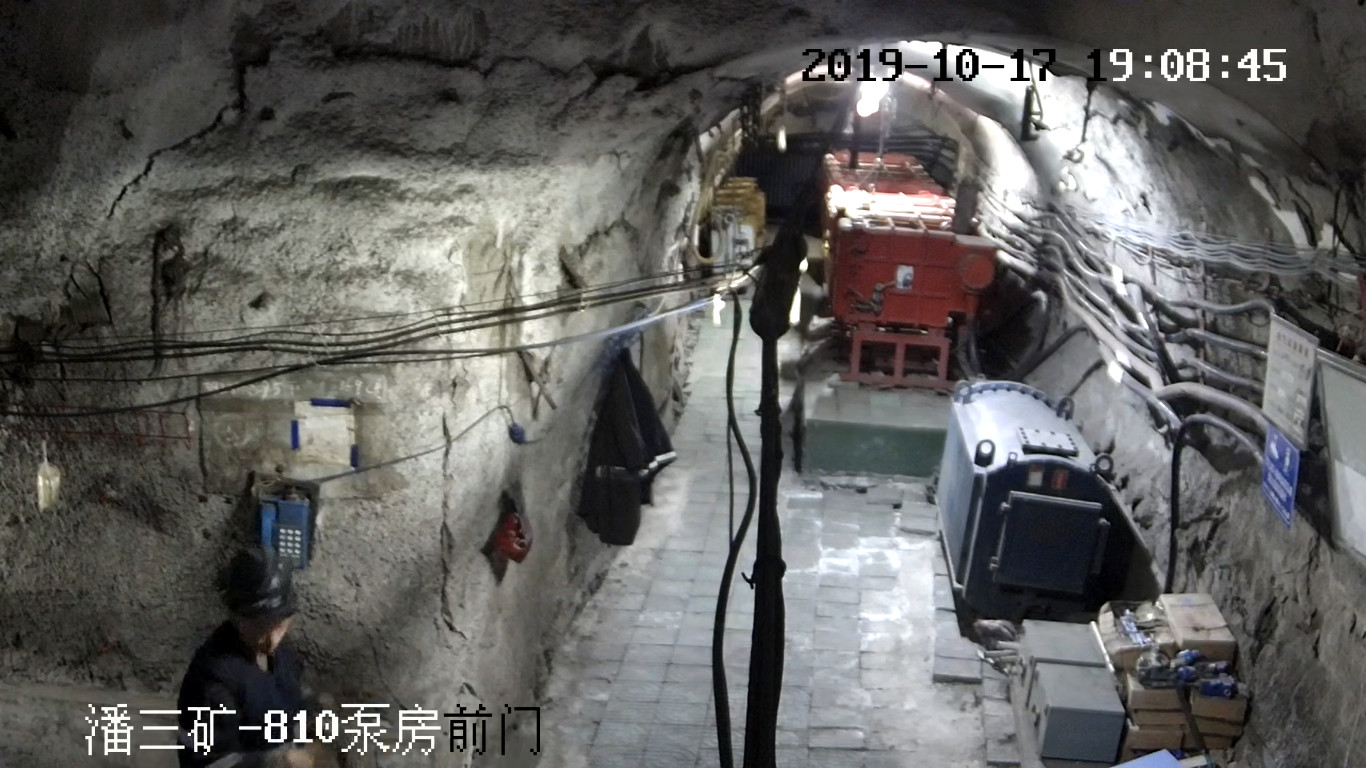helmet: (216, 548, 298, 620)
